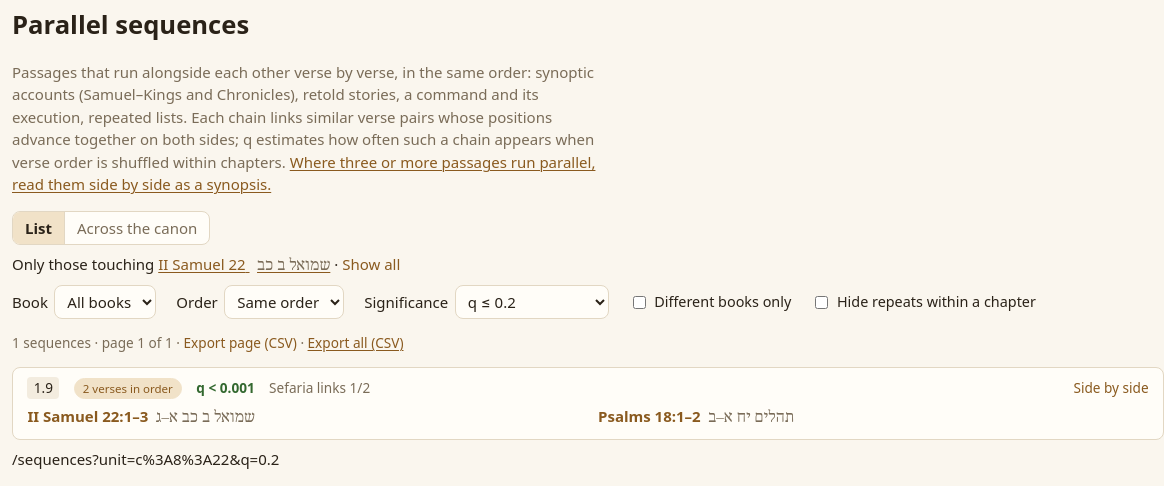
Test case: SequencesPage unit filter › limits the list to one unit and can clear the filter
The width and height of the screenshot is (1164, 486).
Expected: the link "II Samuel 22 שמואל ב כב" is shown, left=158, top=254, right=330, bottom=274
Click the button "Show all": (371, 264) left=342, top=253, right=400, bottom=275
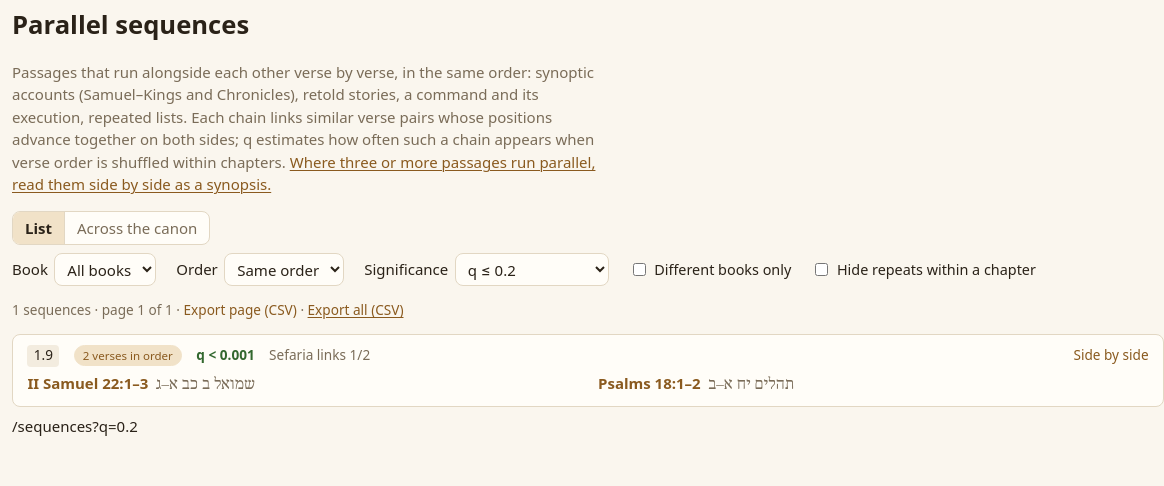
Expected: the text with test id "loc" reads "/sequences?q=0.2", left=12, top=416, right=138, bottom=436
